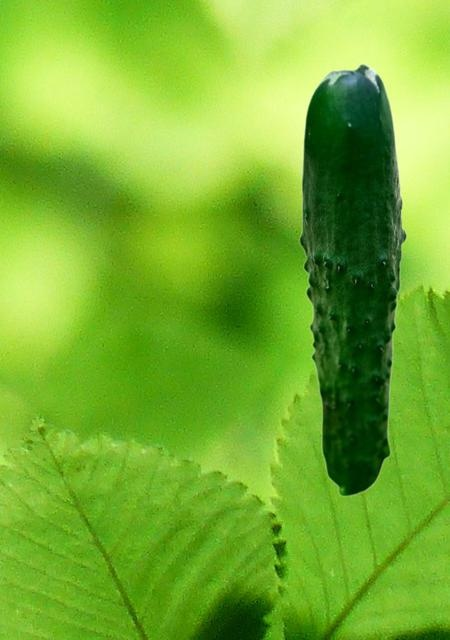cucumber: (298, 63, 406, 496)
